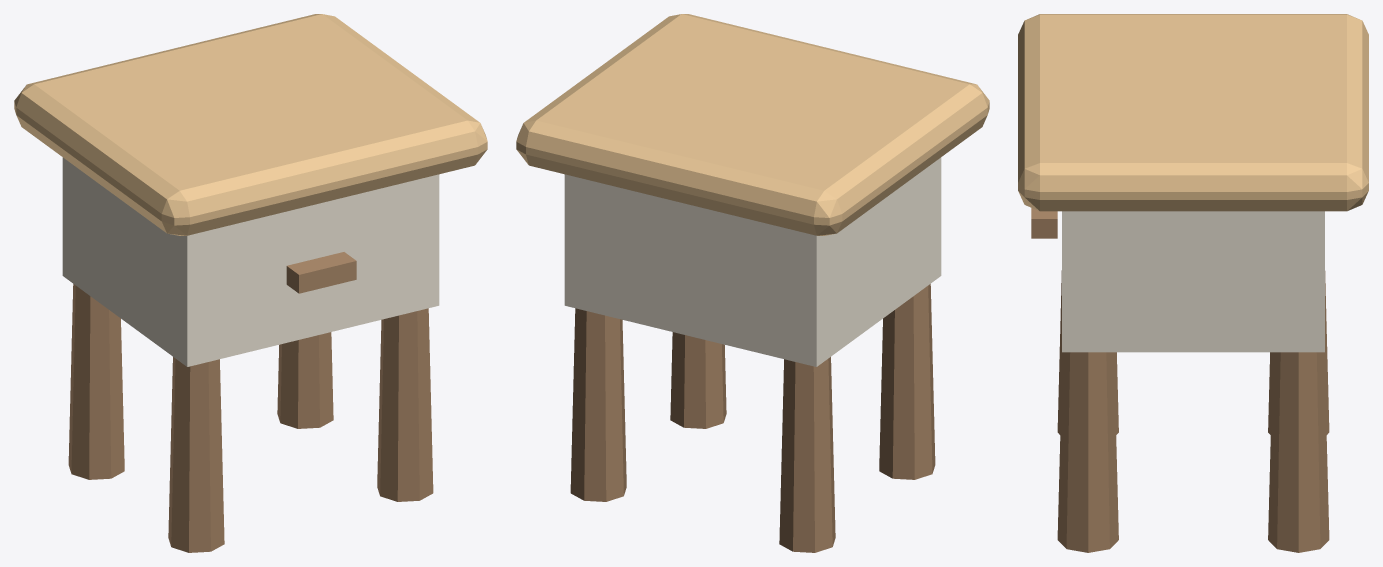
File: cozy-home-interiors-bedside-table-25cc0fd5.glb
3 renders of one model, left to right at view 1: azimuth 30°, elevation 25°; view 2: azimuth 150°, elevation 25°; view 3: azimuth 270°, elevation 25°, orthographic. The views are drawn at different scales.
Parts seen in each view (by area): view 1: bedside-table; view 2: bedside-table; view 3: bedside-table.
Boxes of the visible parts, x1,y1,x2,y2 form: bedside-table: [14, 14, 487, 552]; bedside-table: [516, 14, 989, 552]; bedside-table: [1018, 14, 1368, 552].
Size of the model in its own units: 0.45 by 0.5 by 0.4.
